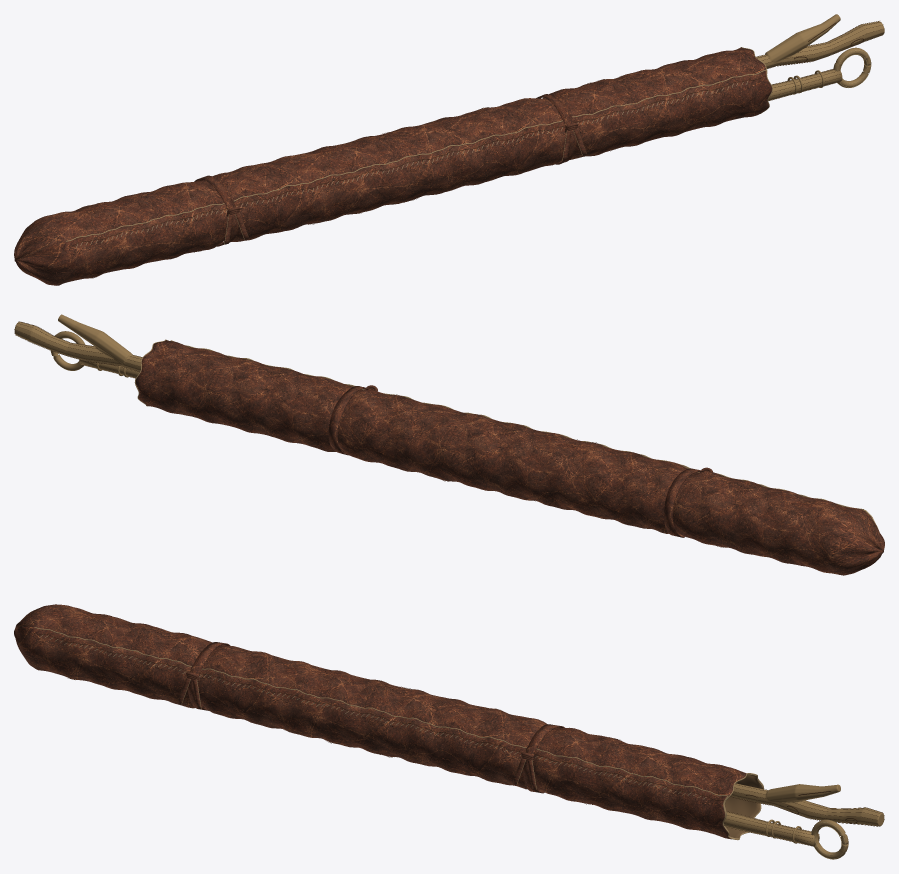
The model's file is MD-11-wand-roll.glb.
3 renders of one model, top to bottom at view 1: azimuth 30°, elevation 25°; view 2: azimuth 150°, elevation 25°; view 3: azimuth 330°, elevation 25°, orthographic.
Visible parts, largest first — view 1: MD11_LeatherBody_SINGLE_CONTINUOUS_HIDE, MD11_STAFF_FORK_shaft, MD11_Frayed_overlap_and_mouth, MD11_STAFF_RING_shaft, MD11_Overlap_shadow, MD11_Editable_edge_repair_stitches, MD11_Ring_head, MD11_Tie_band_0, MD11_Tie_band_1; view 2: MD11_LeatherBody_SINGLE_CONTINUOUS_HIDE, MD11_STAFF_FORK_shaft, MD11_Tie_band_0, MD11_Tie_band_1, MD11_Frayed_overlap_and_mouth; view 3: MD11_LeatherBody_SINGLE_CONTINUOUS_HIDE, MD11_STAFF_FORK_shaft, MD11_STAFF_RING_shaft, MD11_Frayed_overlap_and_mouth, MD11_Overlap_shadow, MD11_Ring_head, MD11_Editable_edge_repair_stitches, MD11_Tie_band_1, MD11_Tie_band_0, MD11_STAFF_FORK_grain.
Part boxes in pixels (x1=…): MD11_LeatherBody_SINGLE_CONTINUOUS_HIDE: x1=14, y1=48, x2=771, y2=285; MD11_STAFF_FORK_shaft: x1=756, y1=14, x2=884, y2=68; MD11_Frayed_overlap_and_mouth: x1=66, y1=47, x2=772, y2=241; MD11_STAFF_RING_shaft: x1=768, y1=69, x2=842, y2=100; MD11_Overlap_shadow: x1=69, y1=76, x2=766, y2=246; MD11_Editable_edge_repair_stitches: x1=76, y1=80, x2=748, y2=248; MD11_Ring_head: x1=833, y1=47, x2=871, y2=87; MD11_Tie_band_0: x1=194, y1=175, x2=238, y2=246; MD11_Tie_band_1: x1=536, y1=94, x2=576, y2=164; MD11_LeatherBody_SINGLE_CONTINUOUS_HIDE: x1=135, y1=340, x2=884, y2=575; MD11_STAFF_FORK_shaft: x1=14, y1=314, x2=141, y2=371; MD11_Tie_band_0: x1=664, y1=468, x2=707, y2=537; MD11_Tie_band_1: x1=328, y1=386, x2=371, y2=455; MD11_Frayed_overlap_and_mouth: x1=134, y1=339, x2=863, y2=509; MD11_LeatherBody_SINGLE_CONTINUOUS_HIDE: x1=14, y1=604, x2=763, y2=839; MD11_STAFF_FORK_shaft: x1=730, y1=783, x2=884, y2=826; MD11_STAFF_RING_shaft: x1=724, y1=811, x2=819, y2=846; MD11_Frayed_overlap_and_mouth: x1=34, y1=627, x2=764, y2=840; MD11_Overlap_shadow: x1=34, y1=633, x2=723, y2=800; MD11_Ring_head: x1=811, y1=819, x2=848, y2=859; MD11_Editable_edge_repair_stitches: x1=39, y1=634, x2=706, y2=799; MD11_Tie_band_1: x1=522, y1=724, x2=564, y2=793; MD11_Tie_band_0: x1=187, y1=642, x2=229, y2=710; MD11_STAFF_FORK_grain: x1=730, y1=783, x2=884, y2=826.
Size of the model in its own units: 2.25 by 0.1731 by 0.1949.
7 materials, 1 textured.
